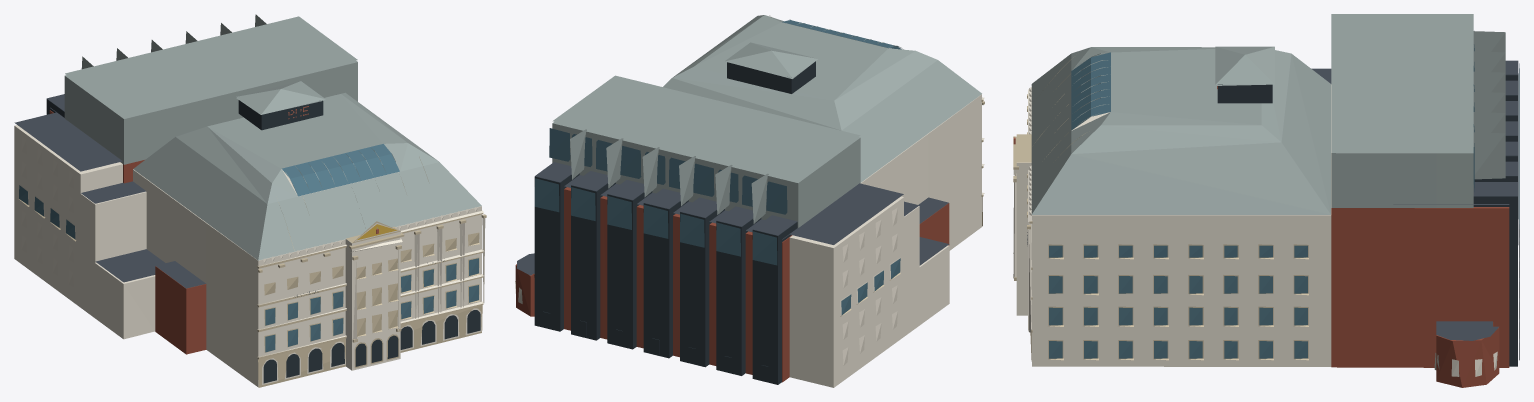
File: royal-theater-carre.lod1.glb
3 renders of one model, left to right at view 1: azimuth 30°, elevation 25°; view 2: azimuth 150°, elevation 25°; view 3: azimuth 270°, elevation 25°, orthographic. The views are drawn at different scales.
Parts seen in each view (by area): view 1: royal-theater-carre; view 2: royal-theater-carre; view 3: royal-theater-carre.
Boxes of the visible parts, x1,y1,x2,y2 form: royal-theater-carre: (14,14,486,387); royal-theater-carre: (515,15,984,387); royal-theater-carre: (1013,14,1519,387).
Size of the model in its own units: 51.84 by 32.62 by 60.73.
